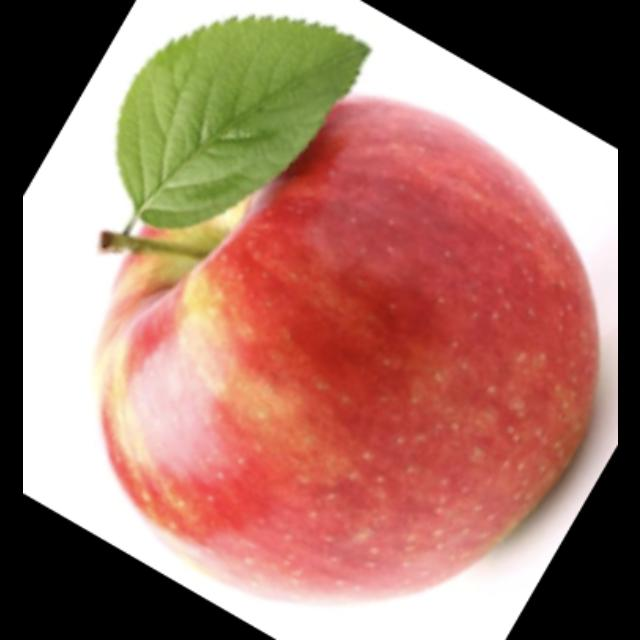Apel Segar: (87, 24, 601, 608)
